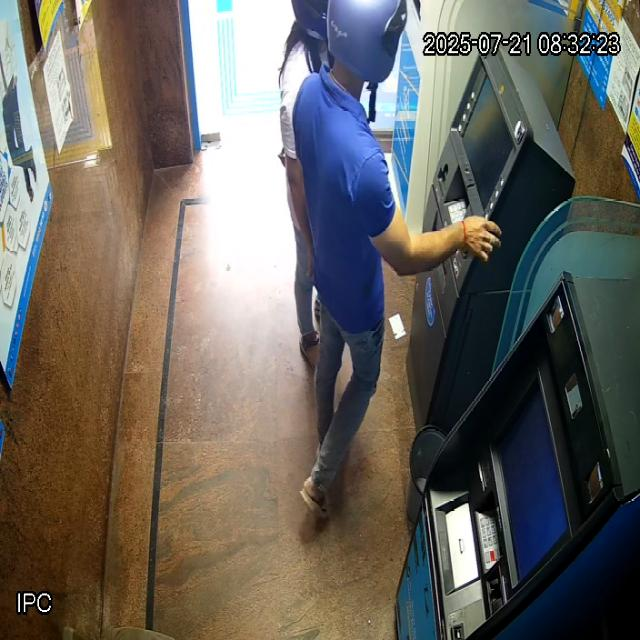helmet: (327, 0, 408, 100), (291, 0, 328, 41)
